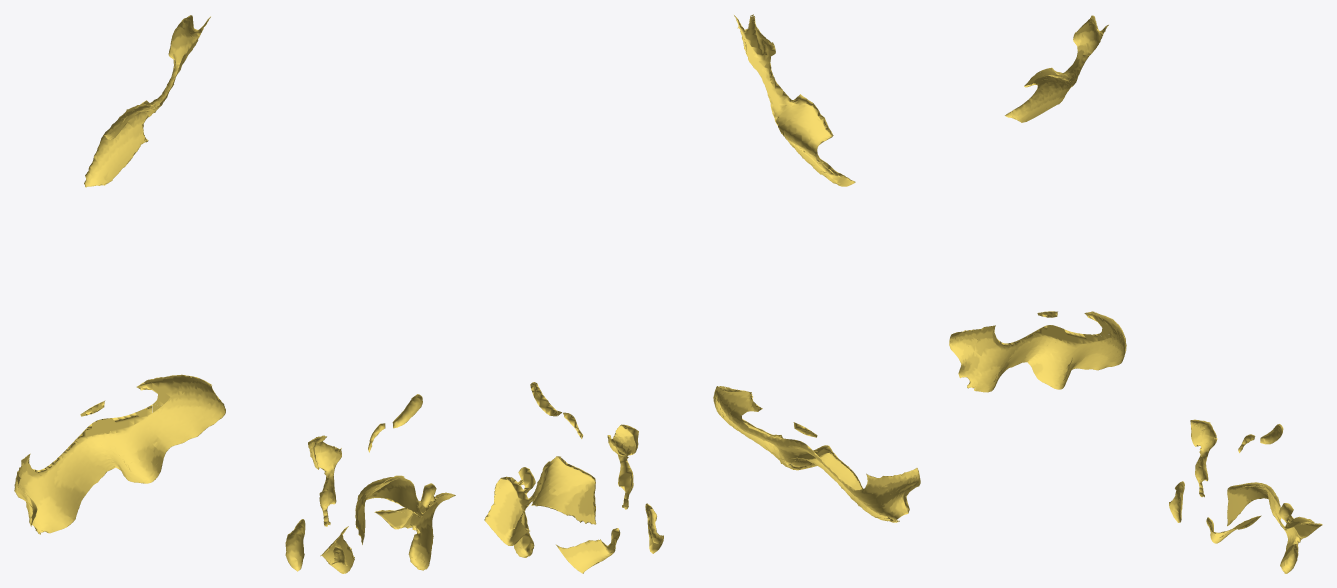
3 renders of one model, left to right at view 1: azimuth 30°, elevation 25°; view 2: azimuth 150°, elevation 25°; view 3: azimuth 330°, elevation 25°, orthographic. The views are drawn at different scales.
Parts seen in each view (by area): view 1: Switch_Switch_osgPicked_gmeGeoEntityGeode_Geometry_0, Switch_Switch_osgPicked_gmeGeoEntityGeode_Geometry_Geometry_ (×5); view 2: Switch_Switch_osgPicked_gmeGeoEntityGeode_Geometry_Geometry_ (×4), Switch_Switch_osgPicked_gmeGeoEntityGeode_Geometry_0; view 3: Switch_Switch_osgPicked_gmeGeoEntityGeode_Geometry_0, Switch_Switch_osgPicked_gmeGeoEntityGeode_Geometry_Geometry_ (×3).
Part boxes in pixels (left/top/right/bottom): Switch_Switch_osgPicked_gmeGeoEntityGeode_Geometry_0: left=14, top=374, right=225, bottom=534; Switch_Switch_osgPicked_gmeGeoEntityGeode_Geometry_Geometry_ (×5): left=84, top=15, right=455, bottom=573; Switch_Switch_osgPicked_gmeGeoEntityGeode_Geometry_Geometry_ (×4): left=484, top=15, right=855, bottom=573; Switch_Switch_osgPicked_gmeGeoEntityGeode_Geometry_0: left=713, top=386, right=920, bottom=522; Switch_Switch_osgPicked_gmeGeoEntityGeode_Geometry_0: left=949, top=311, right=1126, bottom=392; Switch_Switch_osgPicked_gmeGeoEntityGeode_Geometry_Geometry_ (×3): left=1005, top=15, right=1322, bottom=573.
Size of what is drawn, in the model's own units: 36036 by 48466 by 4047.
